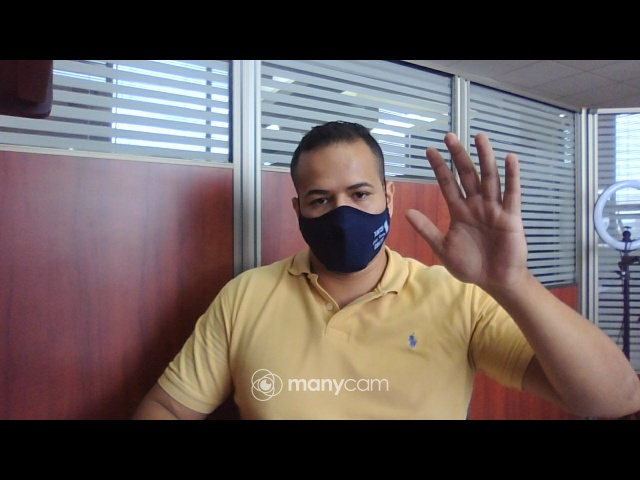Hello: (405, 130, 532, 290)
